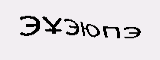П: (101, 24, 122, 43)
Э: (15, 11, 41, 37), (62, 14, 81, 44), (121, 24, 143, 42)
Ю: (80, 17, 101, 43)
Ұ: (40, 7, 63, 41)
